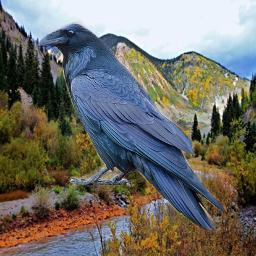Crow: (34, 21, 227, 230)
